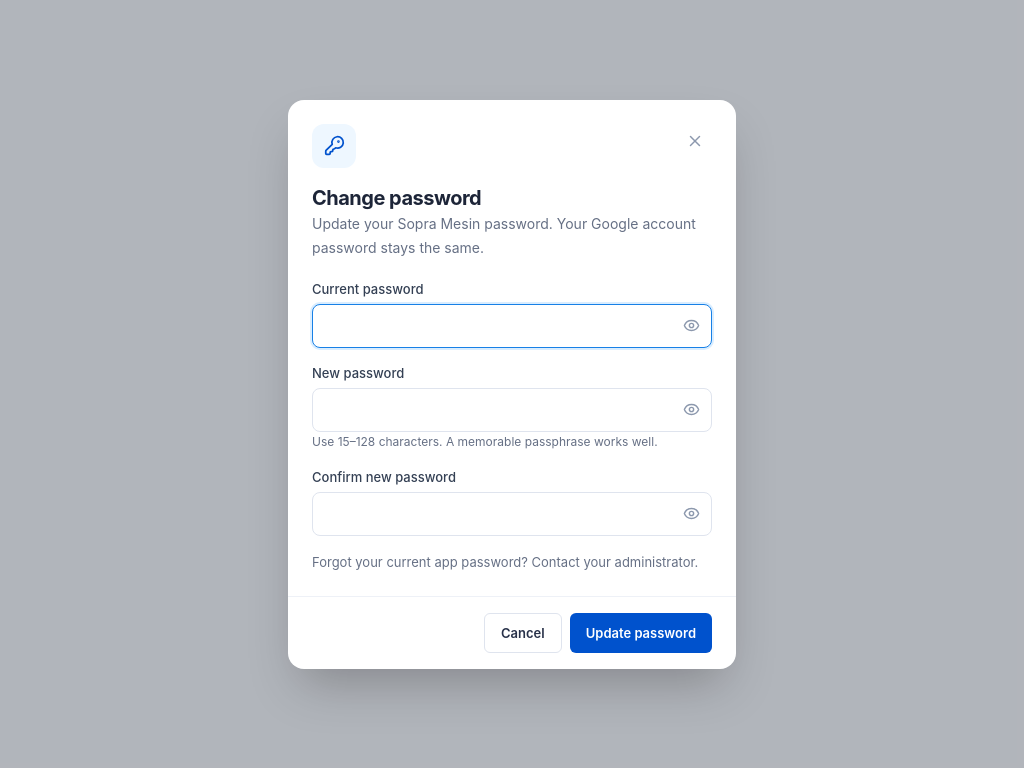
it: Successful password update rotates the token, clears password inputs, and prevents duplicate submissions
The width and height of the screenshot is (1024, 768).
In the password field labelled "Current password": {"x": 512, "y": 326} x1=312 y1=304 x2=712 y2=348, type "old password"
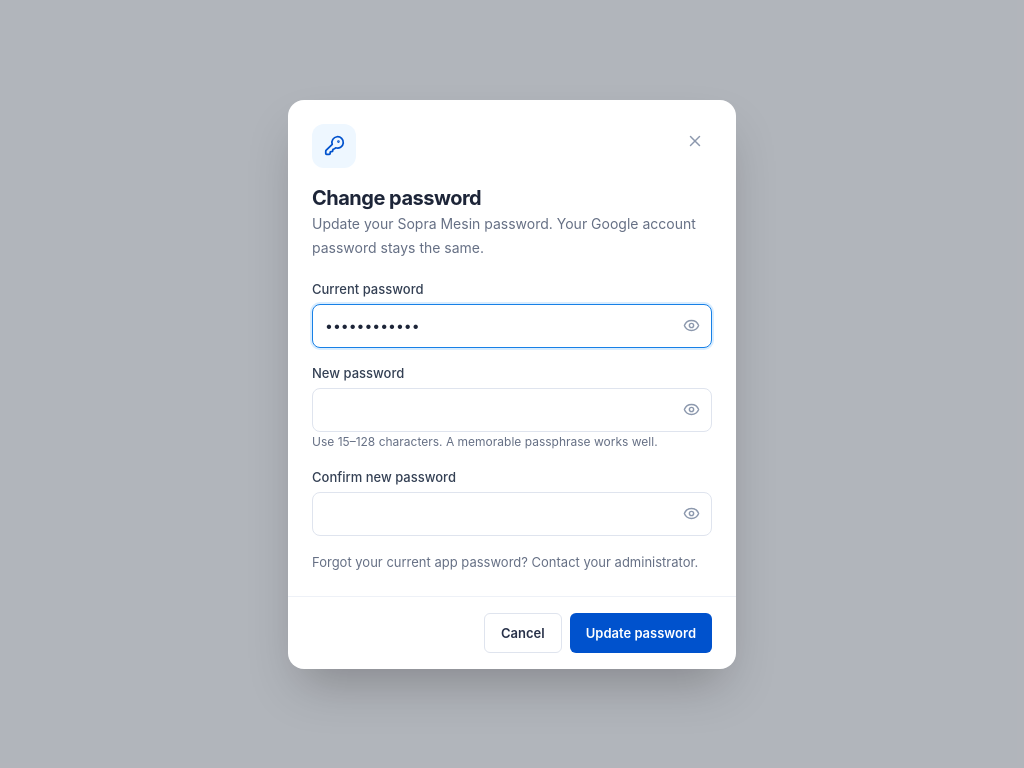
In the password field labelled "New password": {"x": 512, "y": 410} x1=312 y1=388 x2=712 y2=432, type "a new memorable passphrase"
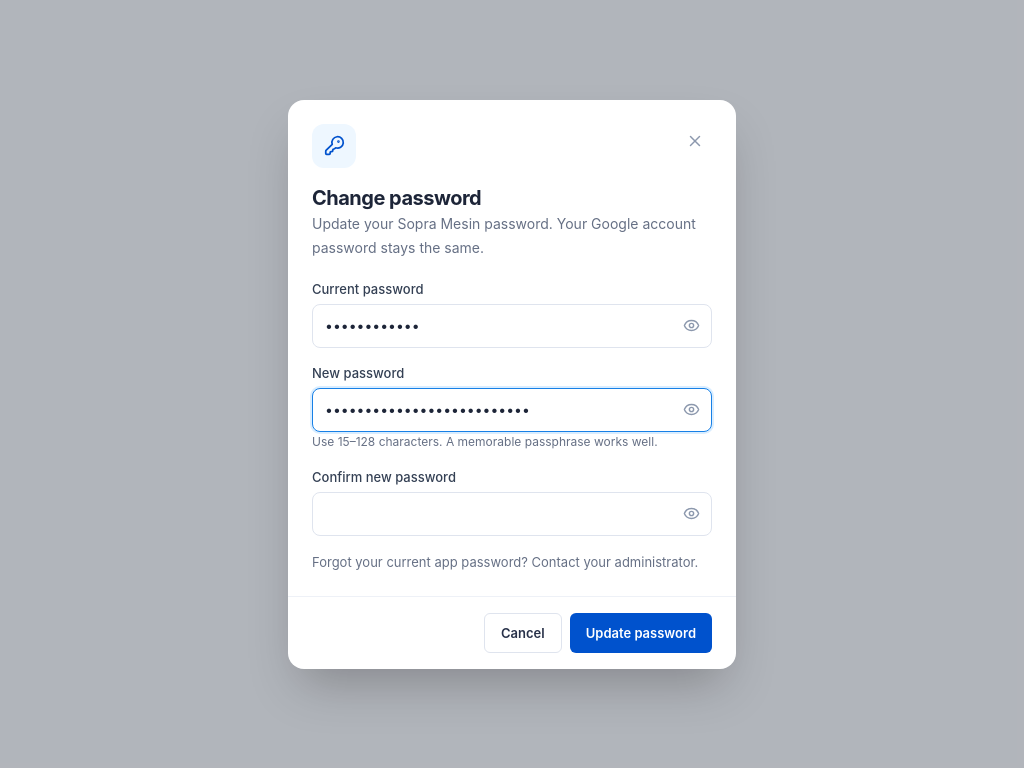
In the password field labelled "Confirm new password": {"x": 512, "y": 514} x1=312 y1=492 x2=712 y2=536, type "a new memorable passphrase"
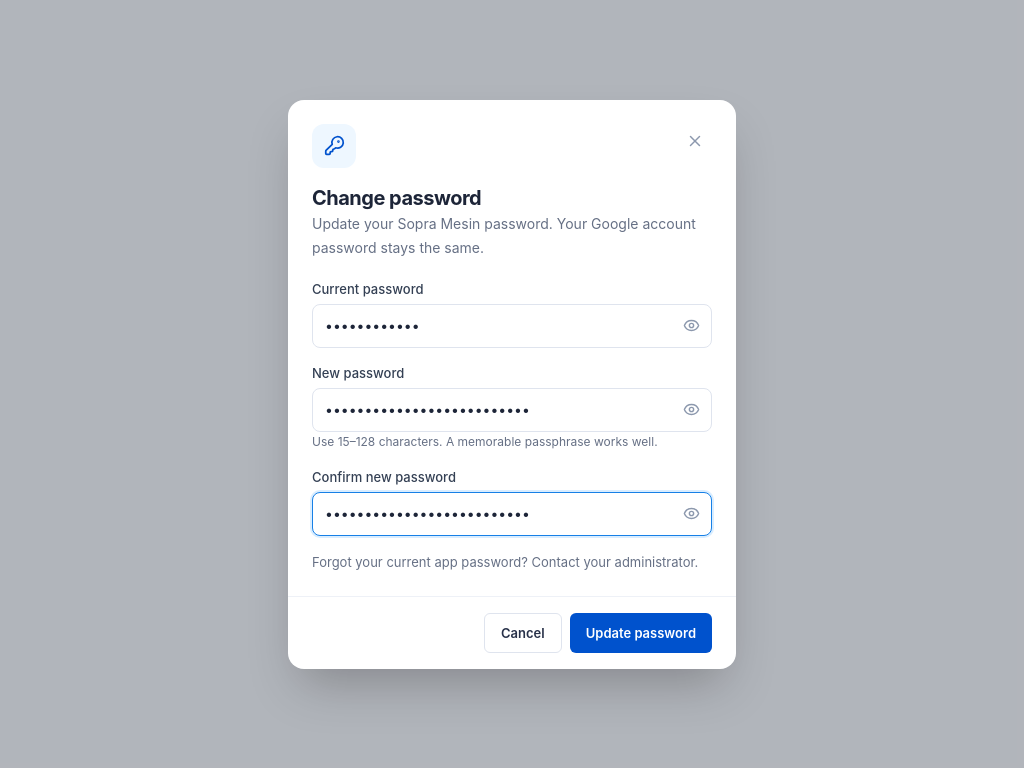
Double-click the button "Update password": {"x": 641, "y": 632} x1=570 y1=612 x2=712 y2=652
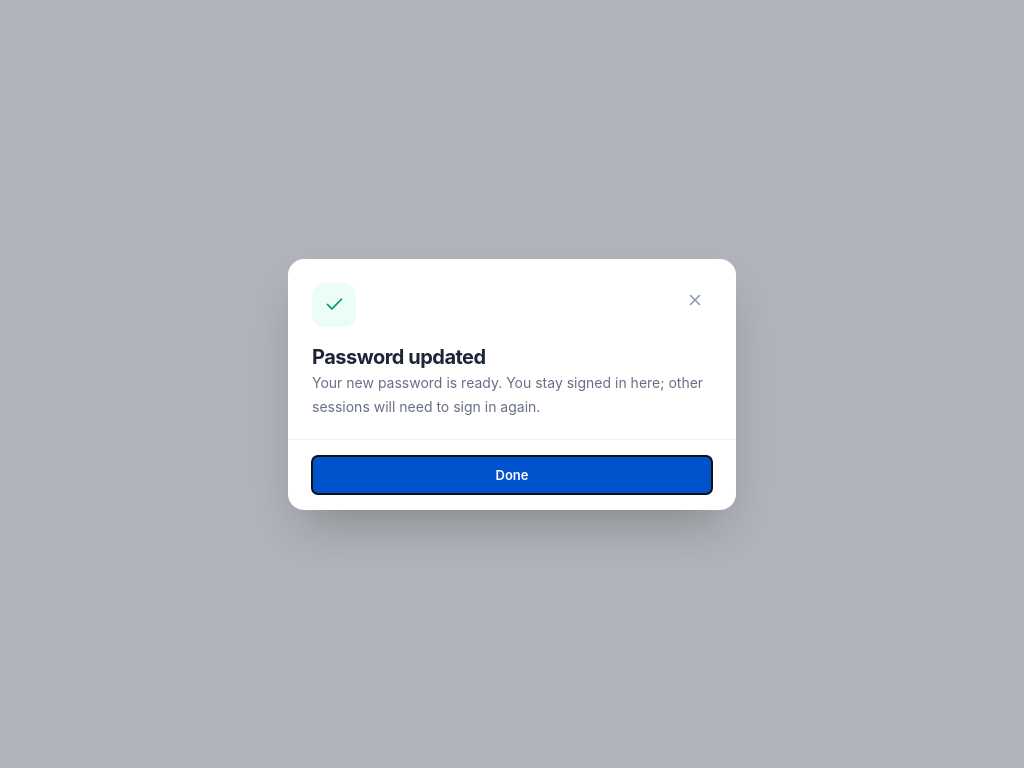
Now the heading "Password updated" is shown, box x1=312 y1=344 x2=486 y2=368
